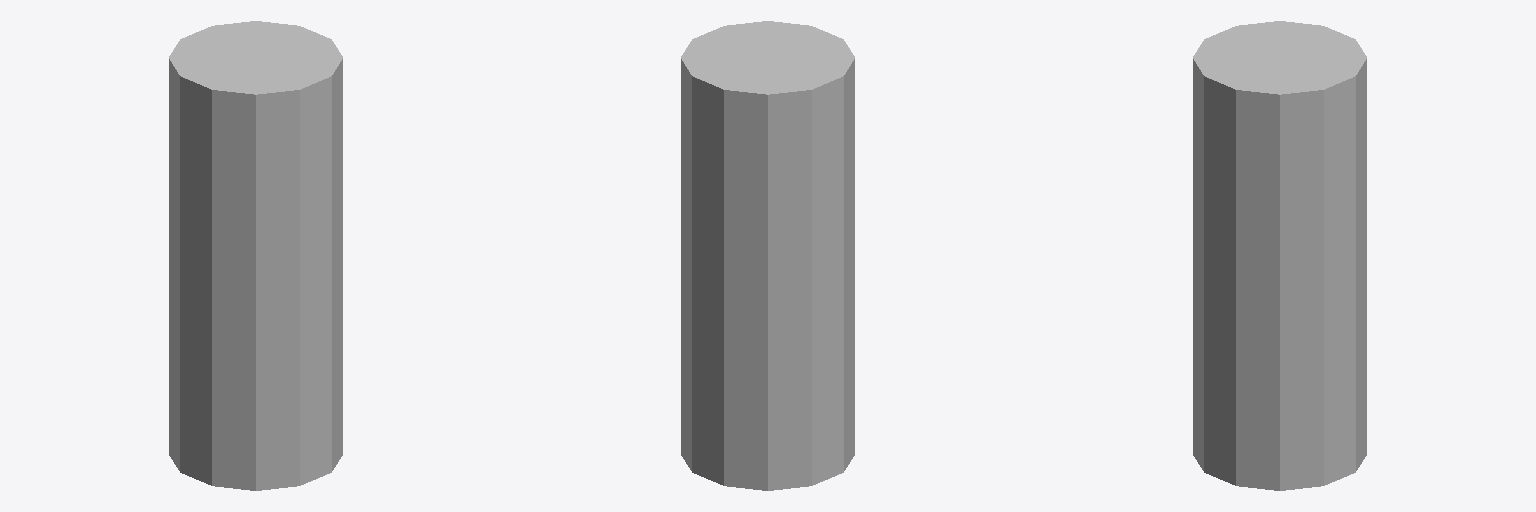
The model's file is micilindro.obj.
3 renders of one model, left to right at view 1: azimuth 30°, elevation 25°; view 2: azimuth 150°, elevation 25°; view 3: azimuth 270°, elevation 25°, orthographic.
Size of the model in its own units: 0.4 by 1 by 0.4.